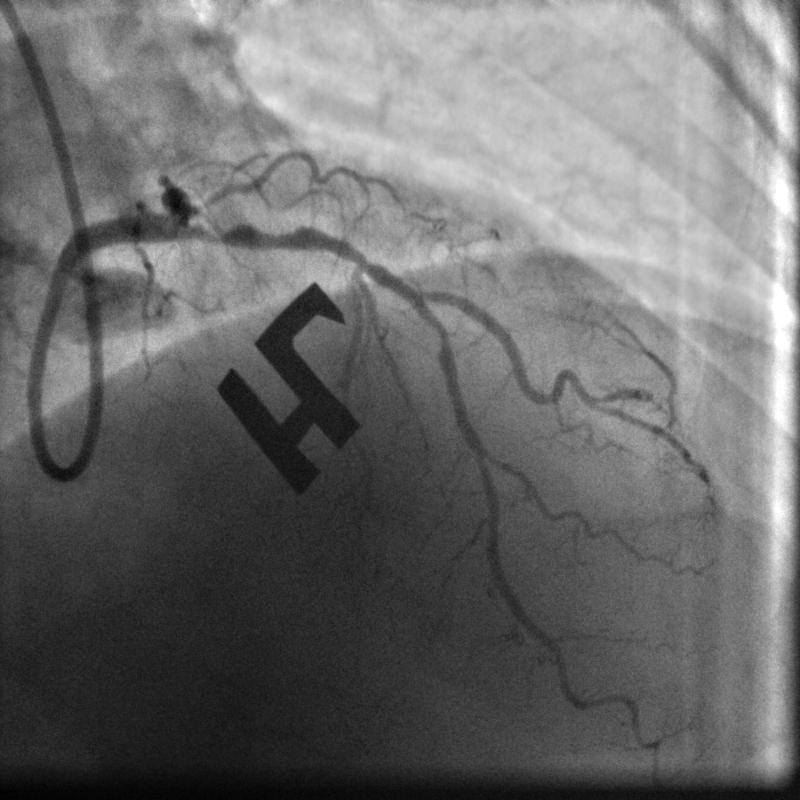Stenosis: (198, 216, 300, 250)
